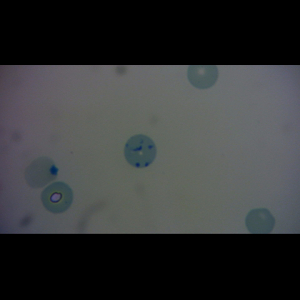aggregate reticulocyte: (123, 133, 158, 169)
erythrocyte: (22, 156, 59, 190), (40, 180, 75, 214), (244, 207, 277, 234)
